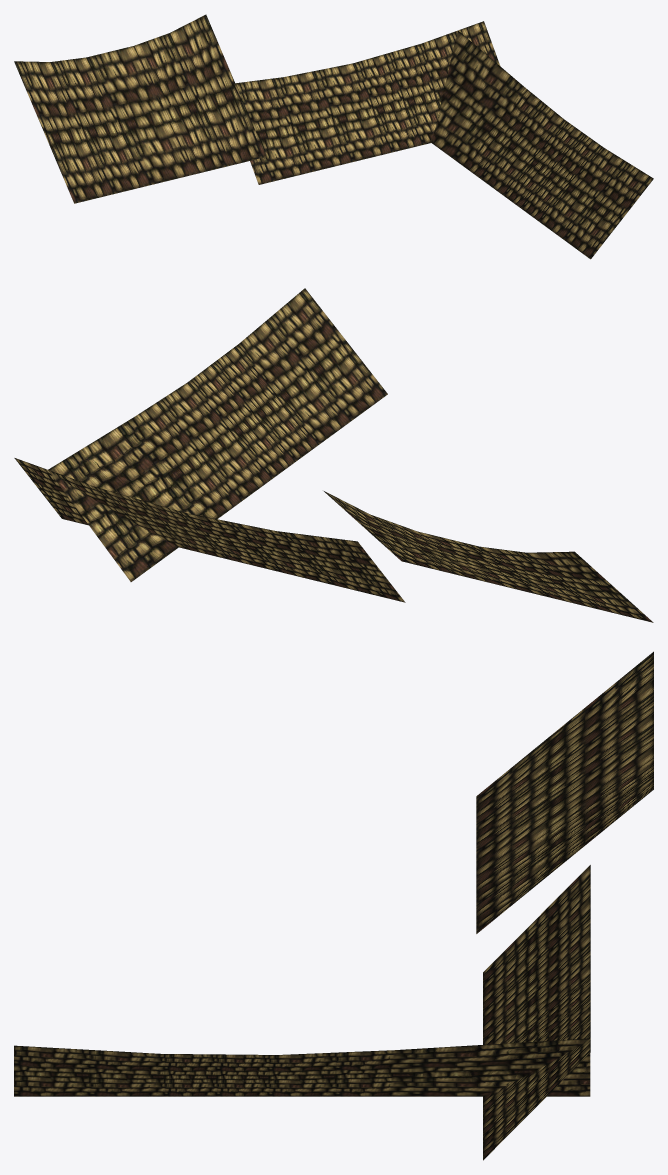
Rendered from LAKETOWN_EXTERIOR_PS_LT_PLANE2182.fbx.
3 renders of one model, top to bottom at view 1: azimuth 30°, elevation 25°; view 2: azimuth 150°, elevation 25°; view 3: azimuth 270°, elevation 25°, orthographic. The views are drawn at different scales.
Visible parts, largest first — view 1: LAKETOWN_EXTERIOR_PS_LT_PLANE2182; view 2: LAKETOWN_EXTERIOR_PS_LT_PLANE2182; view 3: LAKETOWN_EXTERIOR_PS_LT_PLANE2182.
Part boxes in pixels (left/top/right/bottom): LAKETOWN_EXTERIOR_PS_LT_PLANE2182: left=14, top=14, right=653, bottom=259; LAKETOWN_EXTERIOR_PS_LT_PLANE2182: left=14, top=288, right=653, bottom=622; LAKETOWN_EXTERIOR_PS_LT_PLANE2182: left=14, top=651, right=653, bottom=1160.
Size of the model in its own units: 152647 by 41276 by 128112.
Materials: 1 (1 with a texture image).
